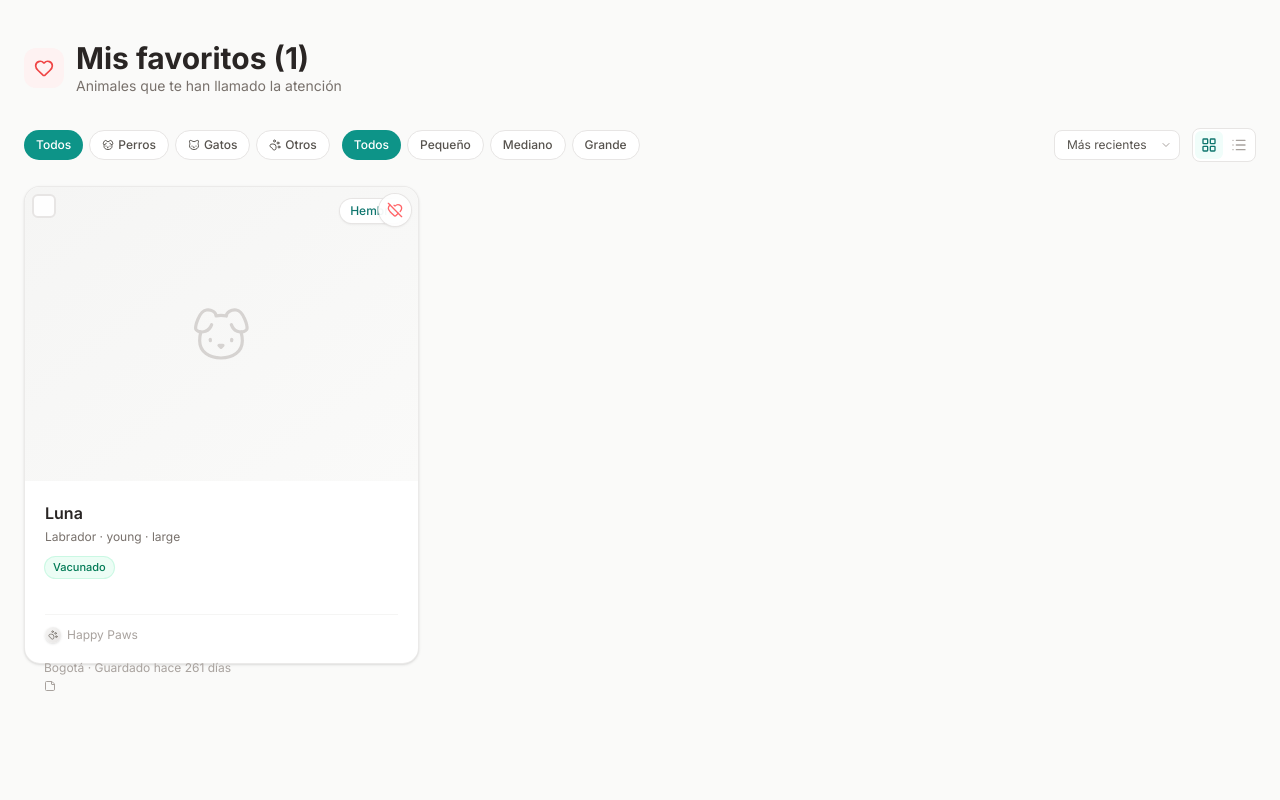
it: FavoritosPage › shows confirmation dialog and dismiss with No button
// The remove button has aria-label "Quitar de favoritos"
Click the button named "Quitar de favoritos".
click(395, 210)  # box [379,194,411,226]
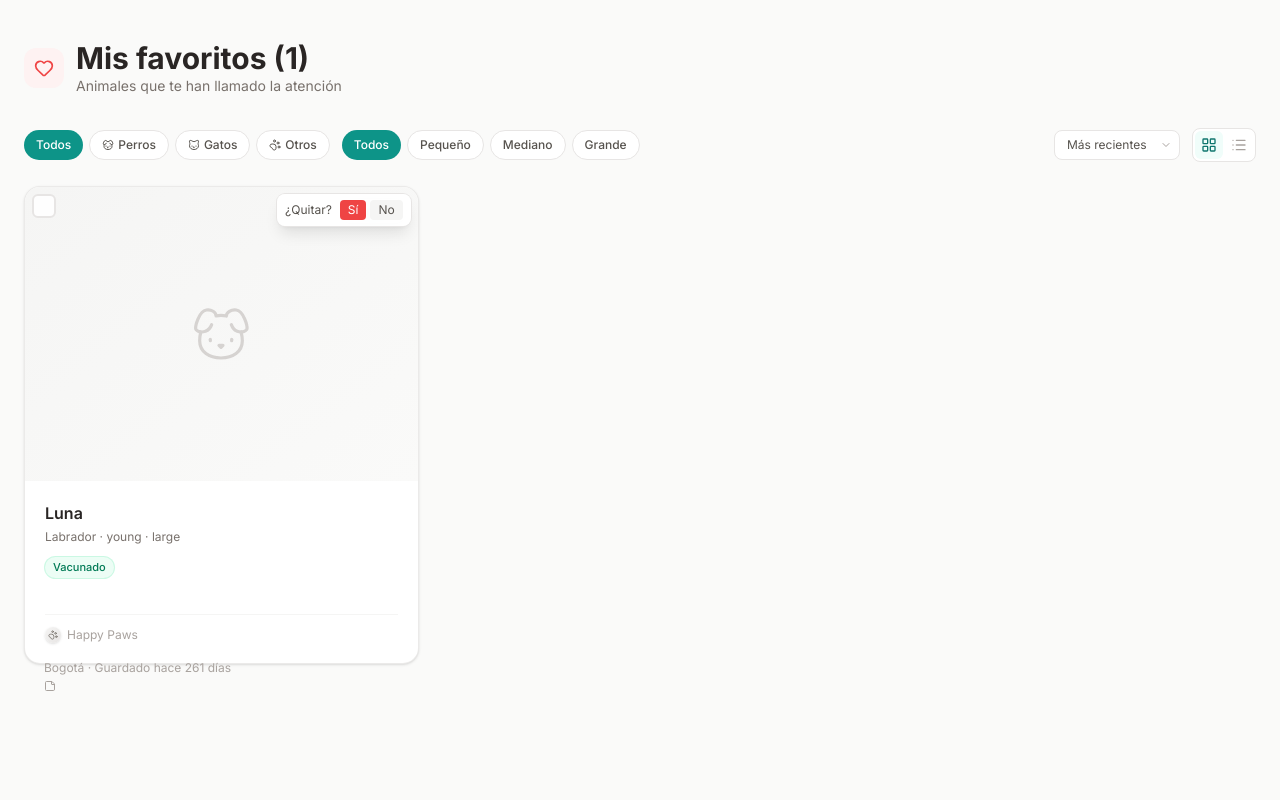
Result: the text "¿Quitar?" is shown at [285,202,332,218]
Result: the button "Sí" is shown at [340,200,366,220]
Result: the button "No" is shown
Click the button "No".
click(387, 210)  # box [370,200,403,220]
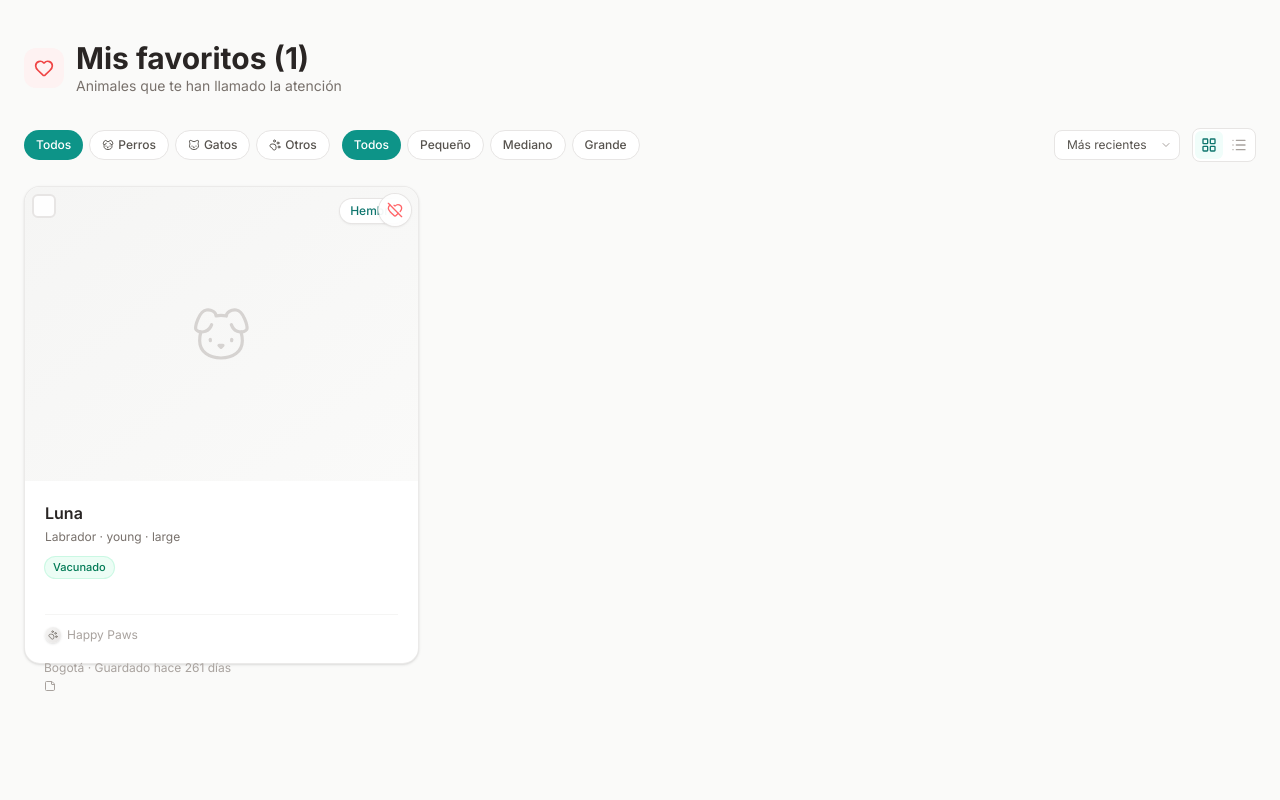
Result: the text "¿Quitar?" is gone
